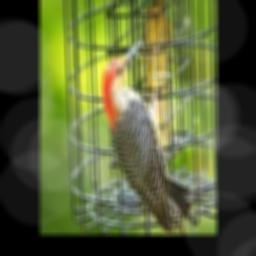Woodpecker: (102, 39, 193, 233)
